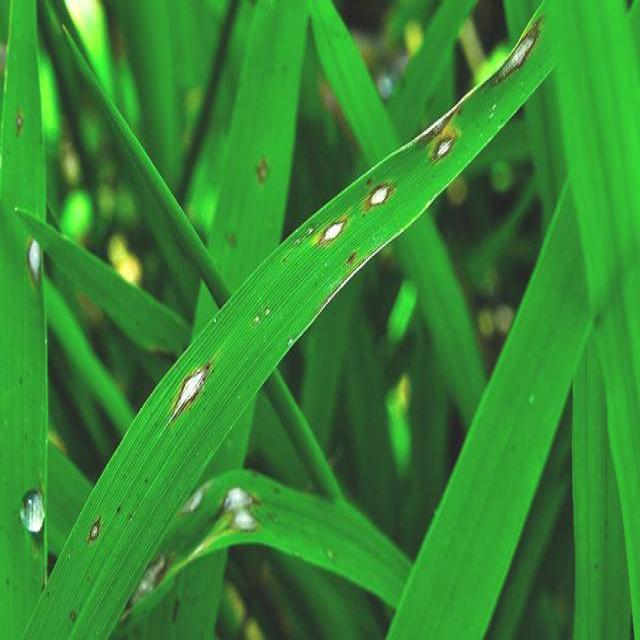Rice_Blast: (486, 14, 541, 82), (168, 352, 213, 410), (316, 198, 345, 248), (427, 113, 459, 158), (364, 172, 401, 210), (23, 226, 46, 281)
